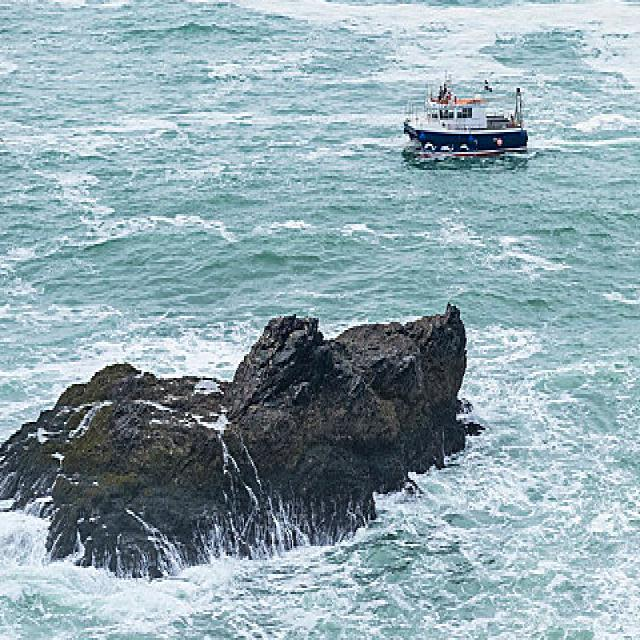reef: (0, 302, 475, 586)
